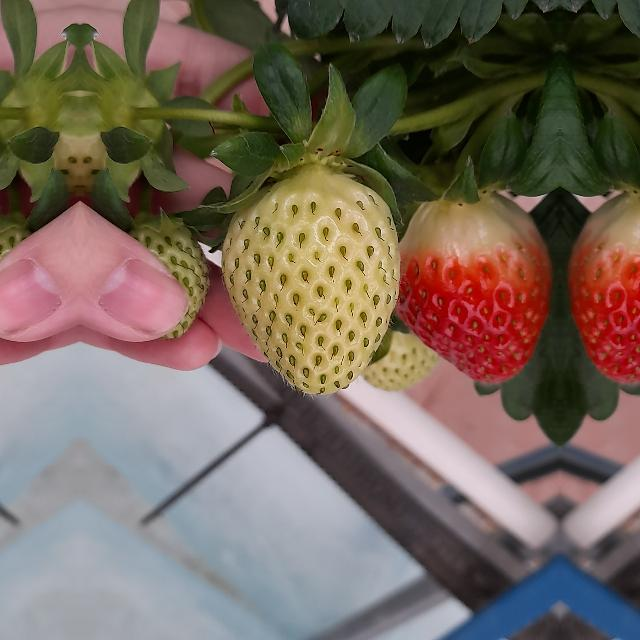Health_25: (221, 163, 401, 395)
